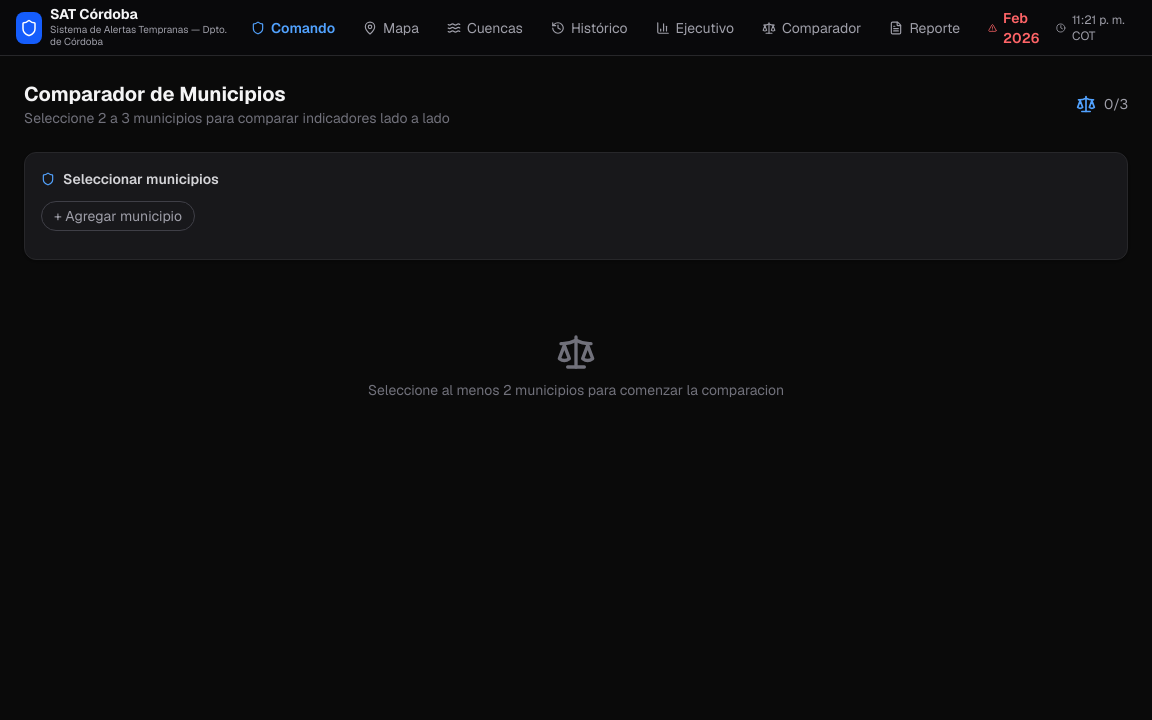
Scenario: ComparadorPage › opens the municipality dropdown when clicking the add button
What coordinates should you click on to do the following:
click the button with test id "add-municipality-btn"
I would click on:
 (118, 216)
Its box is [41, 201, 195, 231].
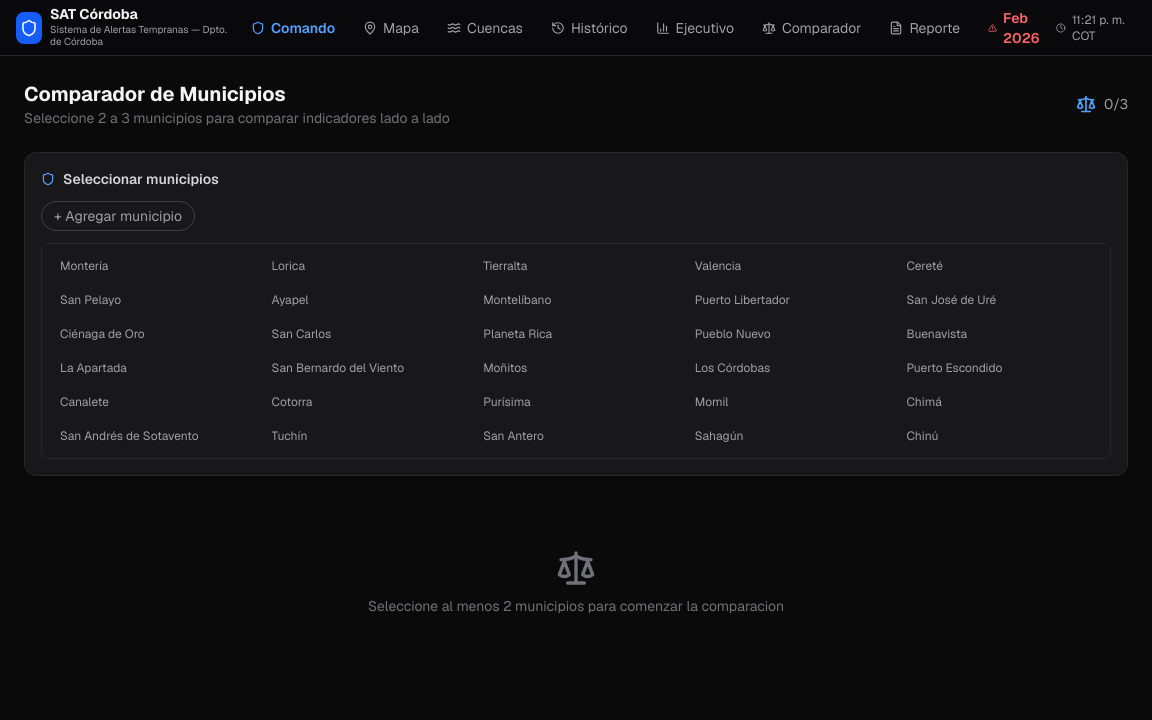
Expected: the element with test id "municipality-selector" is shown, [41, 243, 1111, 459]
